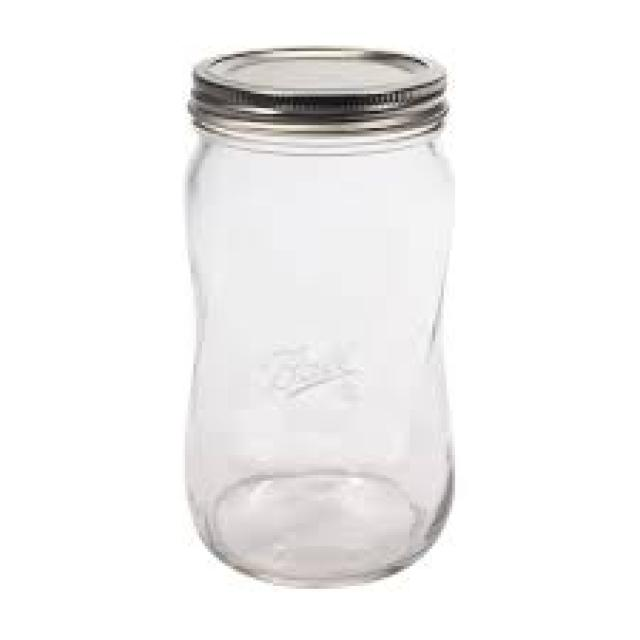Dry Waste: (176, 36, 466, 593)
